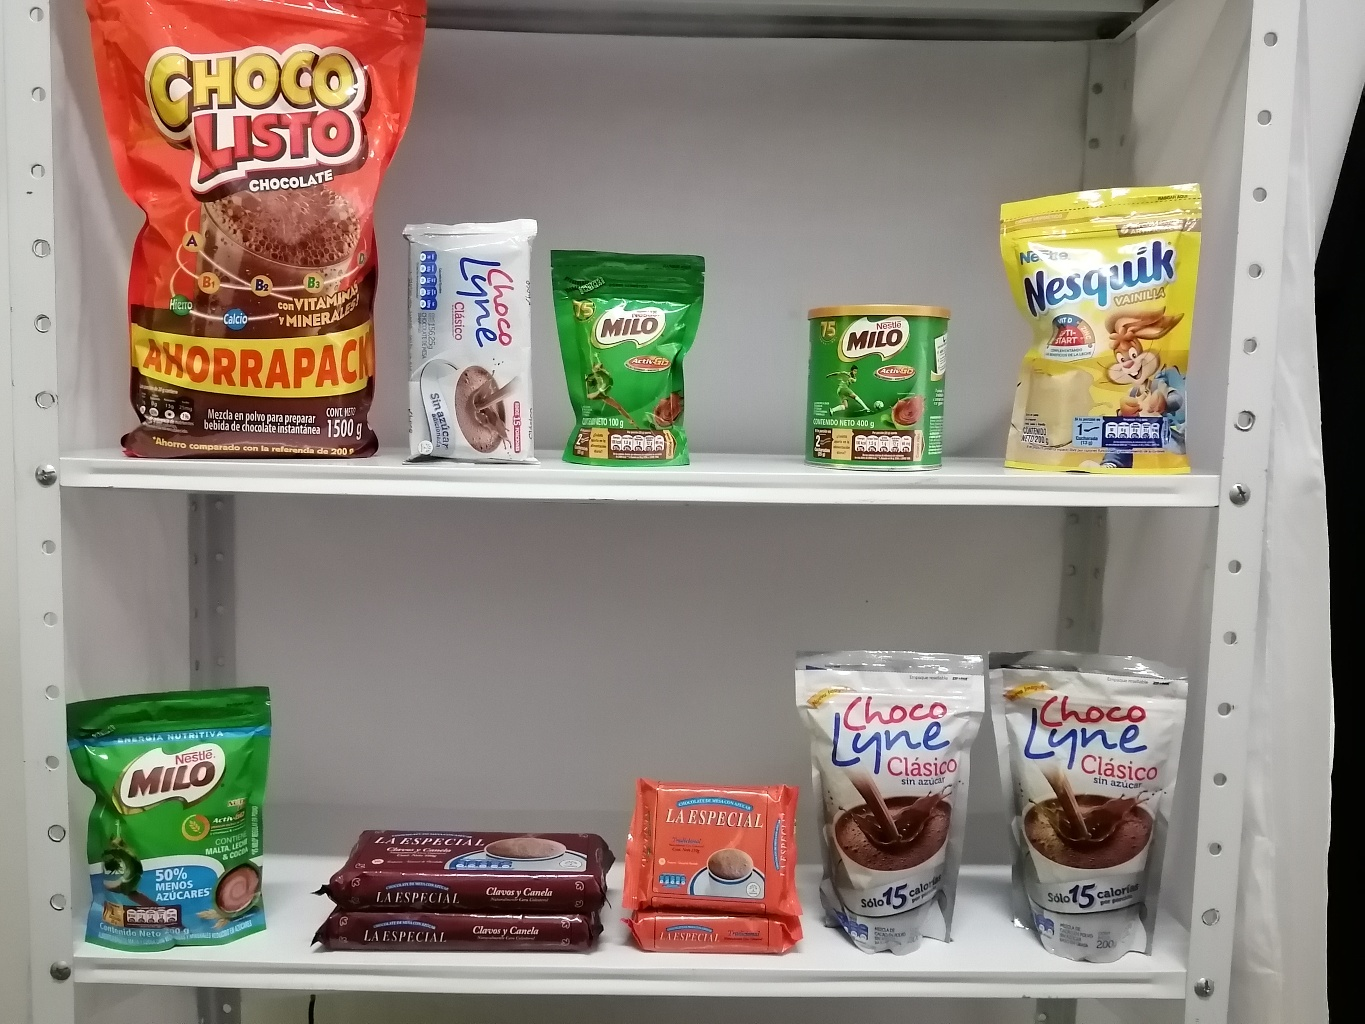COL0170103DYP1,500: (69, 6, 433, 469)
COL0170203DYP10000: (543, 240, 714, 472)
COL0170203LAT40000: (796, 291, 959, 477)
COL0170205DYP20000: (56, 669, 292, 968)
COL0170306DYP20000: (981, 169, 1212, 490)
